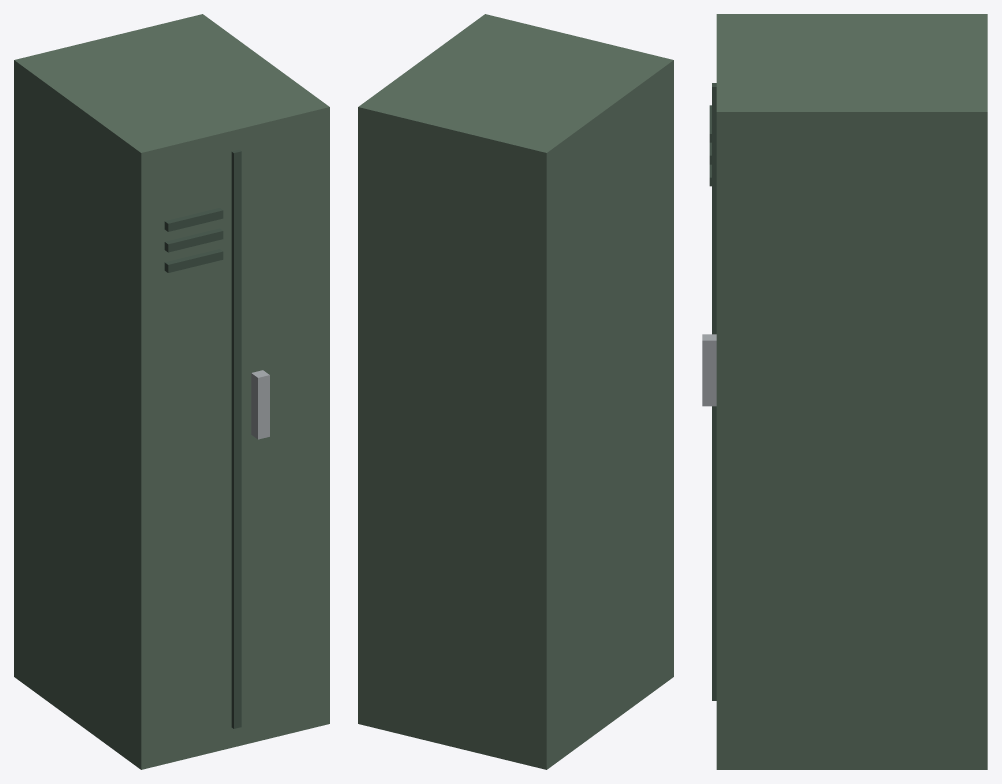
The model's file is SM_Prop_Cabinets_01.glb.
3 views of the same model, side by side, from view 1: azimuth 30°, elevation 25°; view 2: azimuth 150°, elevation 25°; view 3: azimuth 270°, elevation 25° (orthographic). The views are drawn at different scales.
Parts seen in each view (by area): view 1: SM_Prop_Cabinets_01; view 2: SM_Prop_Cabinets_01; view 3: SM_Prop_Cabinets_01.
Part boxes in pixels (bbox=[...]): SM_Prop_Cabinets_01: bbox=[14, 14, 329, 769]; SM_Prop_Cabinets_01: bbox=[358, 14, 673, 769]; SM_Prop_Cabinets_01: bbox=[702, 14, 987, 769].
Size of the model in its own units: 0.48 by 1.5 by 0.59.
Materials: 1 (1 with a texture image).
